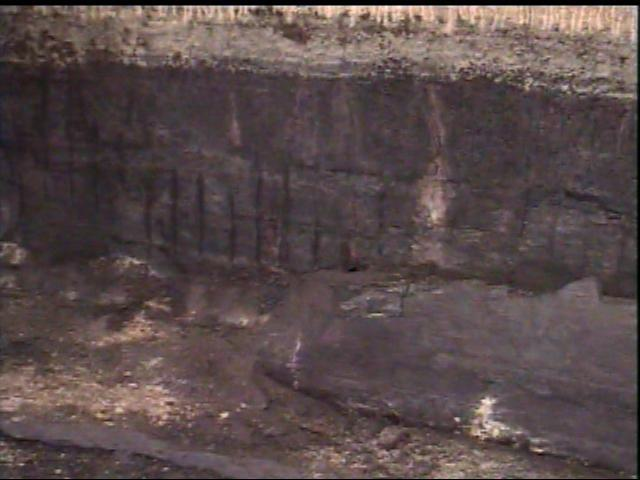Exposed reinforcement: (276, 165, 293, 269), (168, 166, 179, 264), (253, 176, 263, 263), (144, 182, 153, 264), (227, 192, 237, 263), (310, 217, 322, 272), (196, 172, 203, 261), (337, 241, 351, 275)
